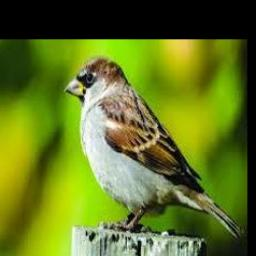Sparrow: (65, 57, 244, 239)
